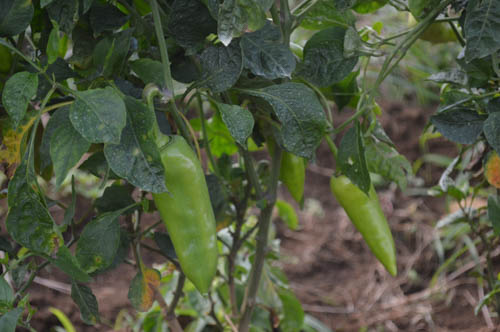ChiliPepper: (151, 138, 216, 296), (329, 171, 403, 273), (265, 134, 306, 200)
